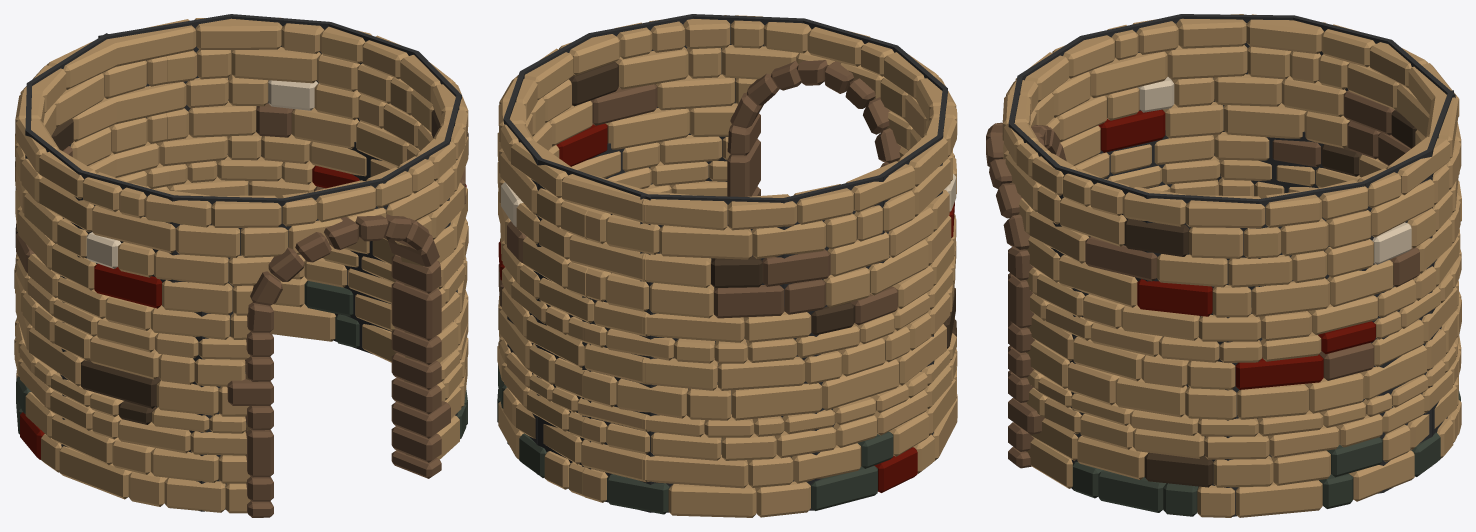
Rendered from tower-base-with-doorway.glb.
3 views of the same model, side by side, from view 1: azimuth 30°, elevation 25°; view 2: azimuth 150°, elevation 25°; view 3: azimuth 270°, elevation 25° (orthographic).
Parts seen in each view (by area): view 1: main-wall, doorframe, grount-wall; view 2: main-wall, grount-wall, doorframe; view 3: main-wall, grount-wall, doorframe.
Part boxes in pixels (left/top/right/bottom): main-wall: left=14, top=17, right=468, bottom=513; doorframe: left=227, top=214, right=450, bottom=517; grount-wall: left=25, top=14, right=461, bottom=511; main-wall: left=497, top=15, right=957, bottom=517; grount-wall: left=503, top=14, right=947, bottom=512; doorframe: left=727, top=60, right=900, bottom=196; main-wall: left=1002, top=14, right=1461, bottom=517; grount-wall: left=1008, top=14, right=1455, bottom=516; doorframe: left=986, top=122, right=1066, bottom=468.
Bounding box in the file's own units: 2 × 1.51 × 2.06.
